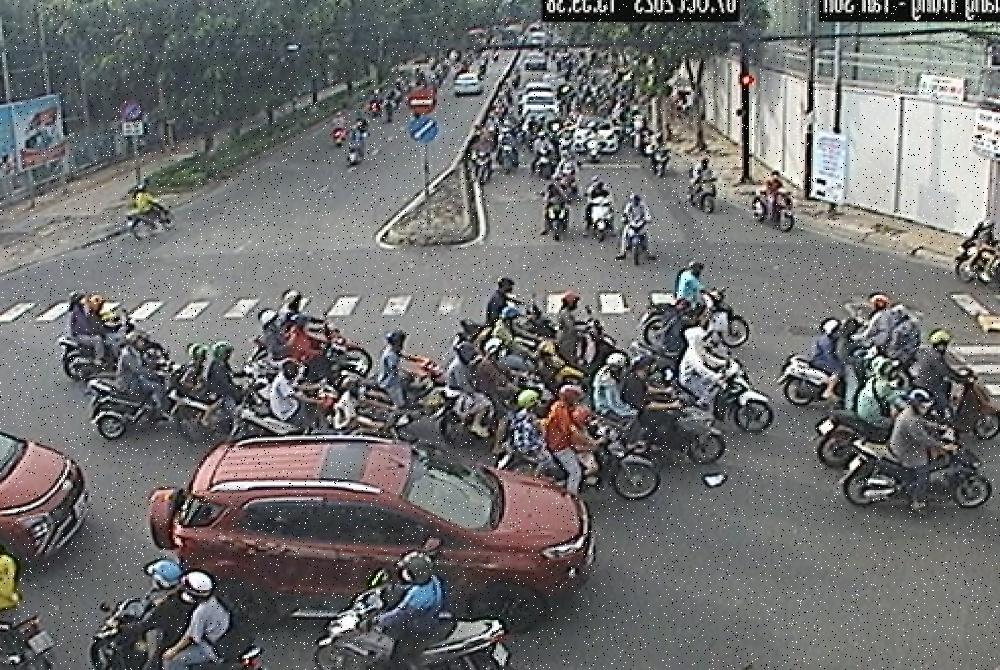car: (146, 432, 592, 636), (0, 420, 84, 571)
motorbike: (309, 588, 514, 670), (85, 595, 272, 670), (837, 437, 994, 509)
